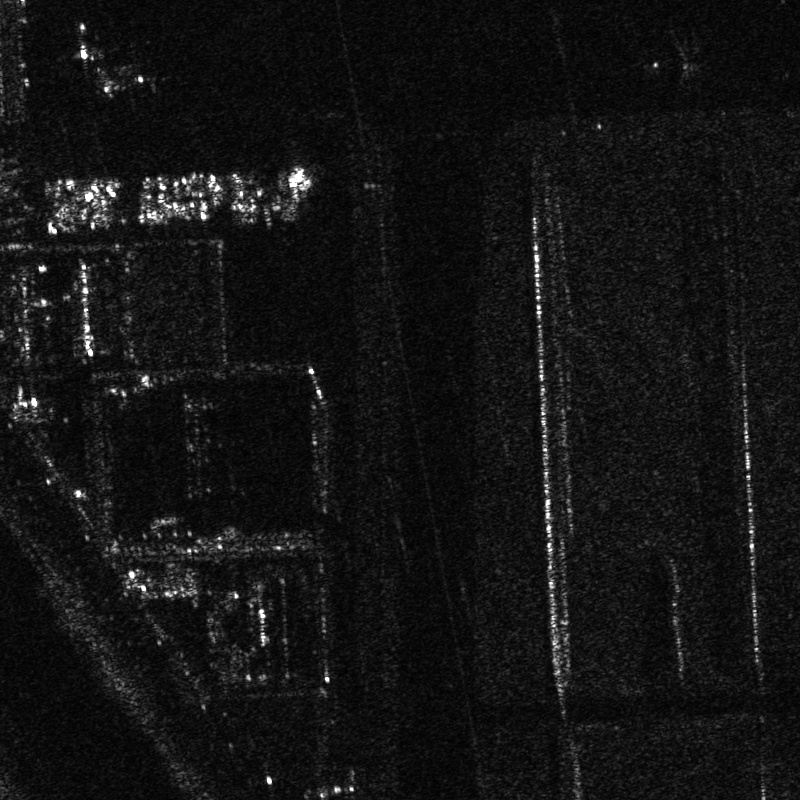A220: (61, 19, 107, 73)
other: (83, 69, 149, 103)
